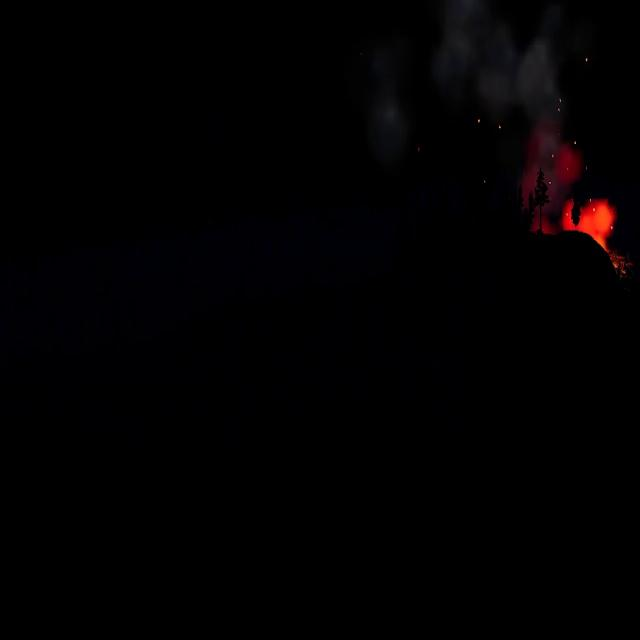fire: (561, 198, 626, 277)
smoke: (426, 2, 581, 233), (364, 41, 408, 164)
